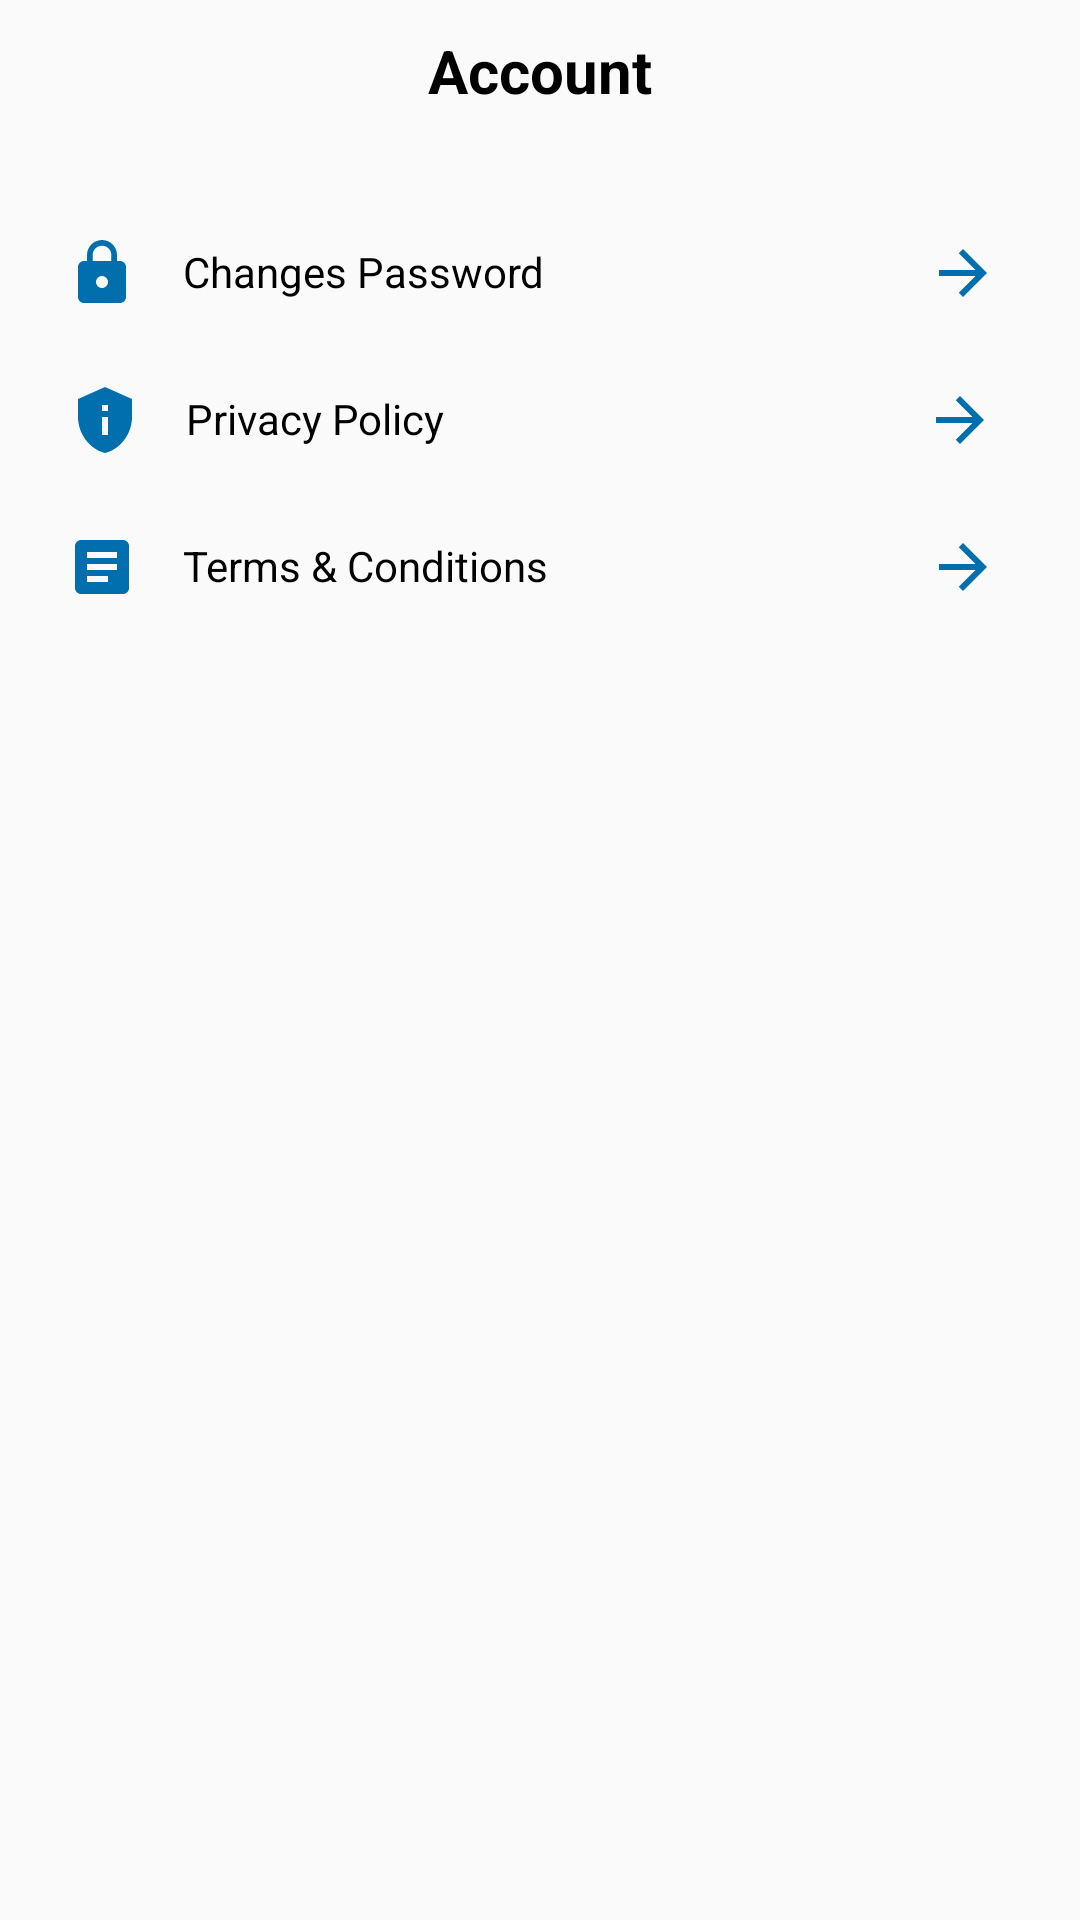

Locate icon controls on the screen. Image size 1080w x 1920h, boxes as (x1, y1, x2, y2).
arrow forward: (939, 249, 987, 297), (936, 396, 984, 444), (939, 543, 987, 591)
privacy tip: (78, 387, 132, 453)
